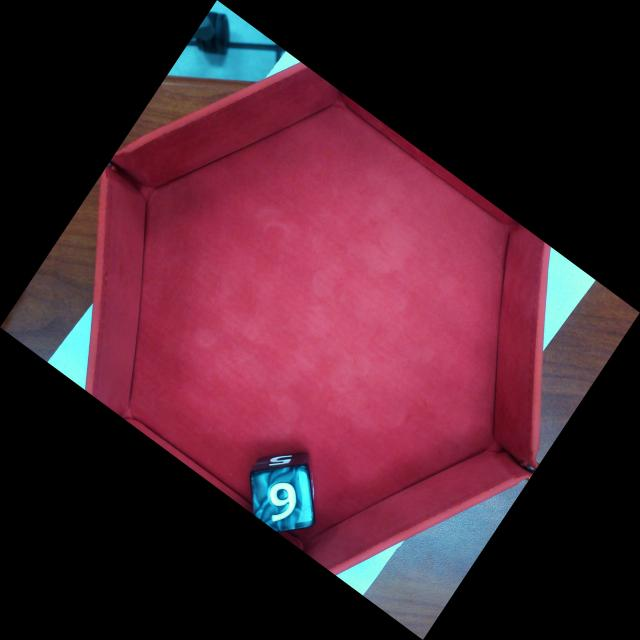dice: (250, 463, 316, 535)
